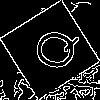Q: (25, 25, 80, 74)
